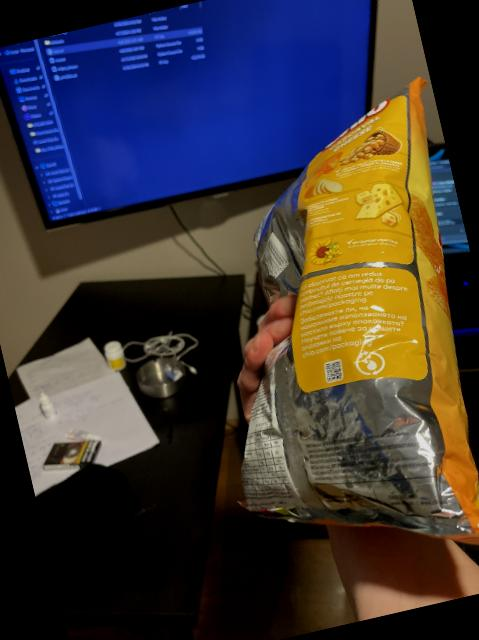Chio Cascaval 125g: (153, 72, 479, 597)
